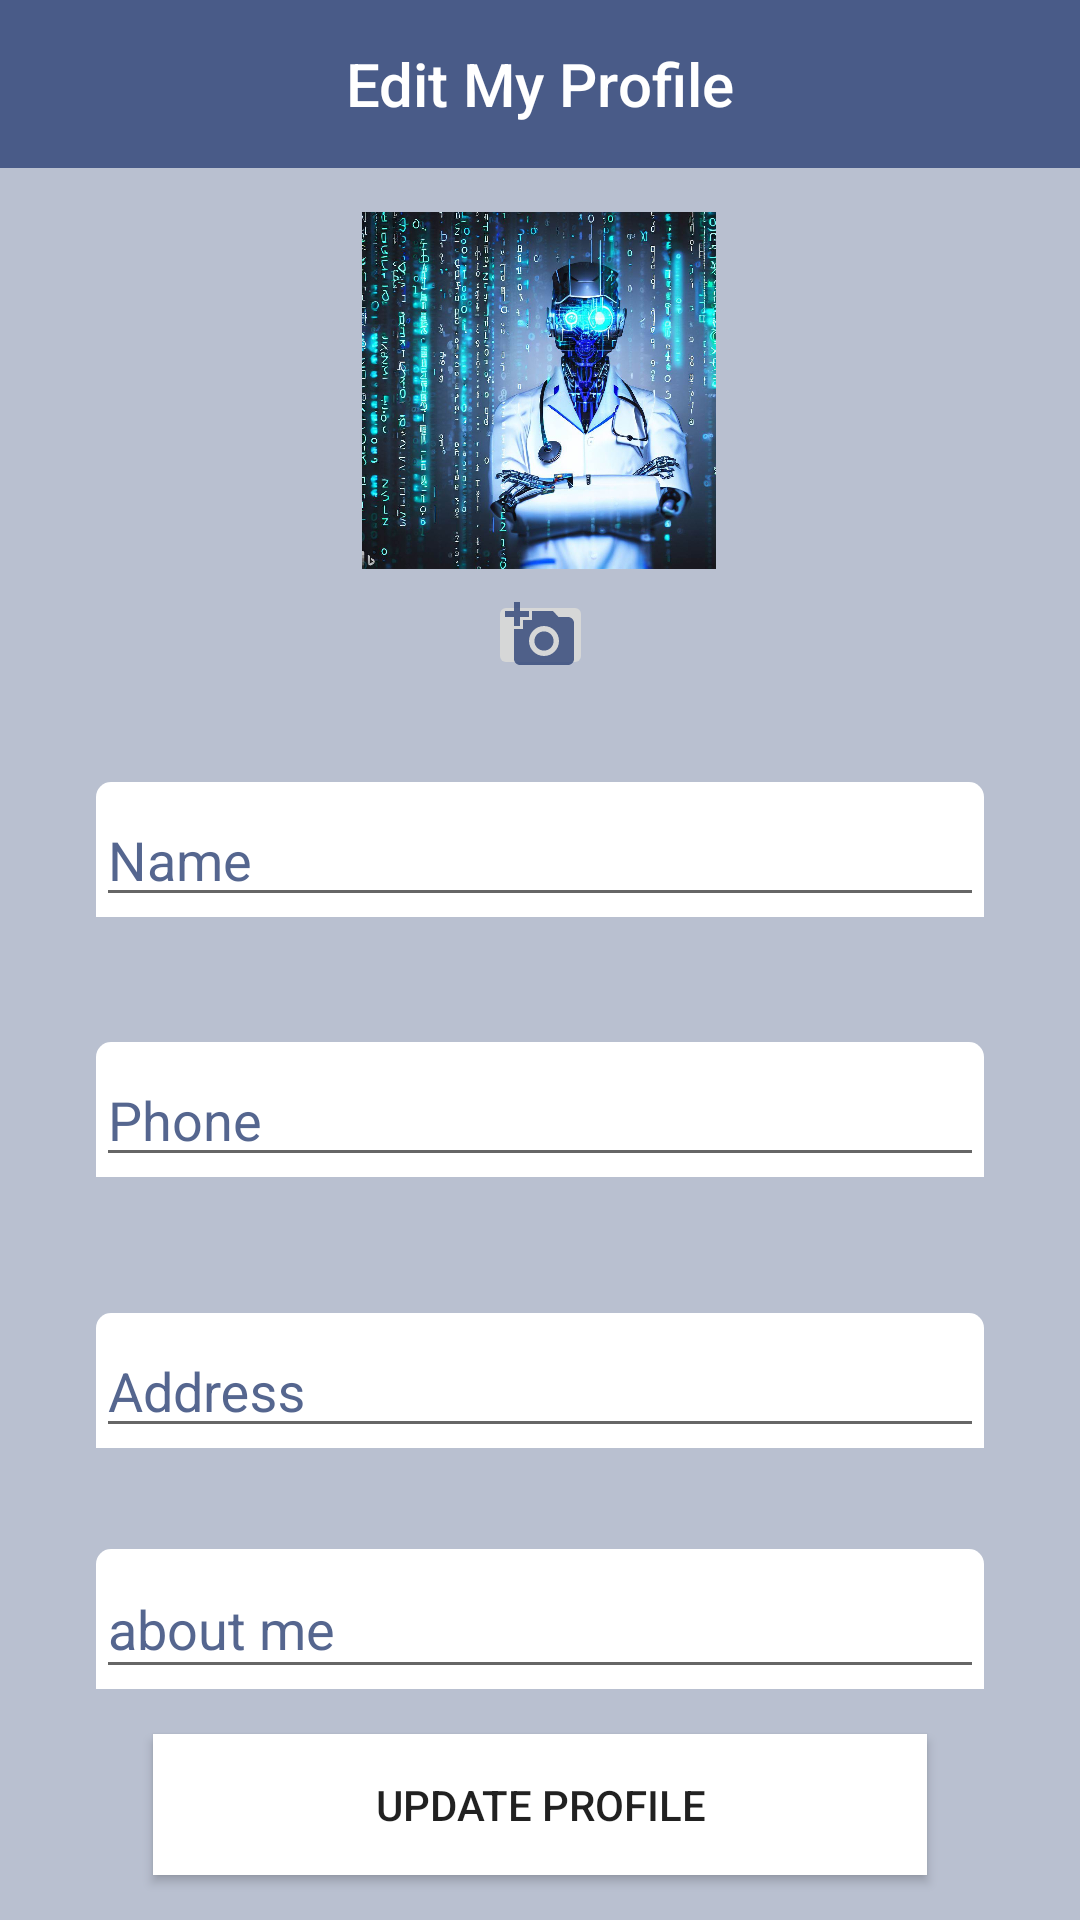

Icon bounding boxes for this 1080*1920 phone screenshot, format (x1, y1, x2, y2):
add photo: (500, 602, 581, 665)
